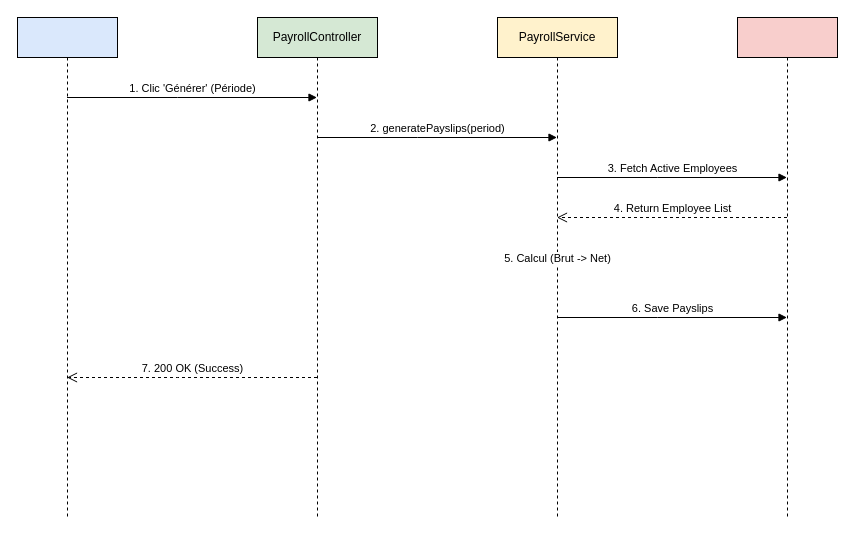
Some shapes in this 855 by 535 pixel diagram are drawn without their labels. The shapes that lost their labels are listed below. From the top down, each one's box as (x1, y1, x2, y2) in pixels, then its label:
(16, 16, 118, 518): Admin RH
(736, 16, 838, 518): Database
